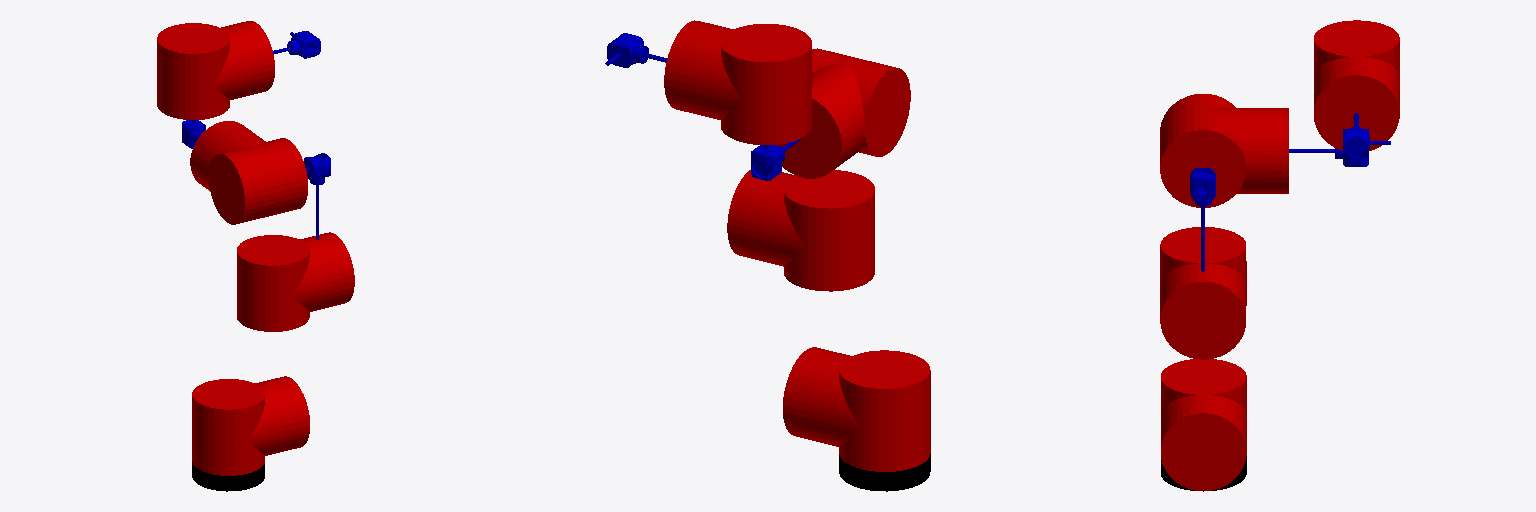
robot.urdf — node62:
<?xml version="1.0"?>
<robot  name="node62" >
 <material  name="blue" >
  <color  rgba="0 0 0.8 1.0" />
 </material>
 <material  name="red" >
  <color  rgba="0.8 0 0 1.0" />
 </material>
 <material  name="black" >
  <color  rgba="0.0 0.0 0.0 1.0" />
 </material>
 <link  name="root_mod" >
  <visual >
   <origin  rpy="0 0 0"  xyz="0 0 0" />
   <material  name="black" />
   <geometry >
    <cylinder  length="0.02"  radius="0.05" />
   </geometry>
  </visual>
 </link>
 <link  name="jointMod_1" >
  <visual >
   <origin  rpy="1.5707963267948963 0.0 0.0"  xyz="0.0 7.771561172376096e-19 0.0035" />
   <material  name="red" />
   <geometry >
    <mesh  filename="./meshes/j_module.obj"  scale="0.001 0.001 0.001" />
   </geometry>
  </visual>
 </link>
 <joint  type="revolute"  name="joint_1_revolute" >
  <parent  link="root_mod" />
  <child  link="jointMod_1" />
  <origin  rpy="0 0 0"  xyz="0.0 0.0 0.01" />
  <axis  xyz="0.0 0.0 1.0" />
 </joint>
 <transmission  name="act_joint_1_revolute" >
  <type  xmltext="SimpleTransmission" >
   SimpleTransmission
  </type>
  <actuator  name="act_joint_1_revolute" >
   <mechanicalreduction  xmltext="1" >
    1
   </mechanicalreduction>
  </actuator>
  <joint  name="joint_1_revolute" />
 </transmission>
 <link  name="linkMod_2" >
  <visual >
   <origin  rpy="1.5707963240855651 -1.2497703982816688e-08 -3.141592641092089"  xyz="0.03999999999999998 4.999081662324221e-10 -4.999081648780052e-10" />
   <material  name="blue" />
   <geometry >
    <mesh  filename="./meshes/l2_module.obj"  scale="0.001 0.001 0.001" />
   </geometry>
  </visual>
 </link>
 <joint  type="revolute"  name="joint_2_revolute" >
  <parent  link="jointMod_1" />
  <child  link="linkMod_2" />
  <origin  rpy="0 0 0"  xyz="0.03 -0.0002999999999999882 0.053000000000000005" />
  <axis  xyz="1.0 0.0 0.0" />
 </joint>
 <transmission  name="act_joint_2_revolute" >
  <type  xmltext="SimpleTransmission" >
   SimpleTransmission
  </type>
  <actuator  name="act_joint_2_revolute" >
   <mechanicalreduction  xmltext="1" >
    1
   </mechanicalreduction>
  </actuator>
  <joint  name="joint_2_revolute" />
 </transmission>
 <link  name="jointMod_3" >
  <visual >
   <origin  rpy="1.5707963267948963 0.0 0.0"  xyz="0.0 7.771561172376096e-19 0.0035" />
   <material  name="red" />
   <geometry >
    <mesh  filename="./meshes/j_module.obj"  scale="0.001 0.001 0.001" />
   </geometry>
  </visual>
 </link>
 <joint  type="fixed"  name="joint_3_fixed" >
  <parent  link="linkMod_2" />
  <child  link="jointMod_3" />
  <origin  rpy="0 0 0"  xyz="0.0400000018496602 9.892714319227296e-11 0.14799999950009177" />
  <axis  xyz="0.0 -0.0 1.0" />
 </joint>
 <link  name="linkMod_4" >
  <visual >
   <origin  rpy="1.5707963240855651 -1.2497703982816688e-08 -3.141592641092089"  xyz="0.03999999999999998 4.999081662324221e-10 -4.999081648780052e-10" />
   <material  name="blue" />
   <geometry >
    <mesh  filename="./meshes/l1_module.obj"  scale="0.001 0.001 0.001" />
   </geometry>
  </visual>
 </link>
 <joint  type="revolute"  name="joint_4_revolute" >
  <parent  link="jointMod_3" />
  <child  link="linkMod_4" />
  <origin  rpy="0 0 0"  xyz="0.03 -0.0002999999999999882 0.053000000000000005" />
  <axis  xyz="1.0 0.0 0.0" />
 </joint>
 <transmission  name="act_joint_4_revolute" >
  <type  xmltext="SimpleTransmission" >
   SimpleTransmission
  </type>
  <actuator  name="act_joint_4_revolute" >
   <mechanicalreduction  xmltext="1" >
    1
   </mechanicalreduction>
  </actuator>
  <joint  name="joint_4_revolute" />
 </transmission>
 <link  name="jointMod_5" >
  <visual >
   <origin  rpy="0.0 0.0 1.5707963267948963"  xyz="-0.0035 7.771561172376096e-19 0.0" />
   <material  name="red" />
   <geometry >
    <mesh  filename="./meshes/j_module.obj"  scale="0.001 0.001 0.001" />
   </geometry>
  </visual>
 </link>
 <joint  type="fixed"  name="joint_5_fixed" >
  <parent  link="linkMod_4" />
  <child  link="jointMod_5" />
  <origin  rpy="0 0 0"  xyz="1.9996326608429094e-09 -4.3349299788124236e-10 0.15999999999999995" />
  <axis  xyz="-1.0 -0.0 0.0" />
 </joint>
 <link  name="linkMod_6" >
  <visual >
   <origin  rpy="-3.141592641092089 -1.5707963009853283 0.0"  xyz="-1.8496602150599611e-09 0.14799999999999994 1.84966021004862e-09" />
   <material  name="blue" />
   <geometry >
    <mesh  filename="./meshes/l3_module.obj"  scale="0.001 0.001 0.001" />
   </geometry>
  </visual>
 </link>
 <joint  type="revolute"  name="joint_6_revolute" >
  <parent  link="jointMod_5" />
  <child  link="linkMod_6" />
  <origin  rpy="0 0 0"  xyz="-0.053 0.03000000000000001 0.0003" />
  <axis  xyz="0.0 1.0 0.0" />
 </joint>
 <transmission  name="act_joint_6_revolute" >
  <type  xmltext="SimpleTransmission" >
   SimpleTransmission
  </type>
  <actuator  name="act_joint_6_revolute" >
   <mechanicalreduction  xmltext="1" >
    1
   </mechanicalreduction>
  </actuator>
  <joint  name="joint_6_revolute" />
 </transmission>
 <link  name="jointMod_7" >
  <visual >
   <origin  rpy="1.5707963267948963 0.0 0.0"  xyz="0.0 7.771561172376096e-19 0.0035" />
   <material  name="red" />
   <geometry >
    <mesh  filename="./meshes/j_module.obj"  scale="0.001 0.001 0.001" />
   </geometry>
  </visual>
 </link>
 <joint  type="fixed"  name="joint_7_fixed" >
  <parent  link="linkMod_6" />
  <child  link="jointMod_7" />
  <origin  rpy="0 0 0"  xyz="-1.958033437884919e-09 0.14799999950009177 0.0400000018496602" />
  <axis  xyz="-0.0 -0.0 1.0" />
 </joint>
 <link  name="linkMod_8" >
  <visual >
   <origin  rpy="0.0 0.0 1.5707963267948963"  xyz="0.148 -3.286260152890463e-17 0.0" />
   <material  name="blue" />
   <geometry >
    <mesh  filename="./meshes/l3_module.obj"  scale="0.001 0.001 0.001" />
   </geometry>
  </visual>
 </link>
 <joint  type="revolute"  name="joint_8_revolute" >
  <parent  link="jointMod_7" />
  <child  link="linkMod_8" />
  <origin  rpy="0 0 0"  xyz="0.03 -0.0002999999999999882 0.053000000000000005" />
  <axis  xyz="1.0 0.0 0.0" />
 </joint>
 <transmission  name="act_joint_8_revolute" >
  <type  xmltext="SimpleTransmission" >
   SimpleTransmission
  </type>
  <actuator  name="act_joint_8_revolute" >
   <mechanicalreduction  xmltext="1" >
    1
   </mechanicalreduction>
  </actuator>
  <joint  name="joint_8_revolute" />
 </transmission>
 <link  name="eef" />
 <joint  type="fixed"  name="eef_joint" >
  <parent  link="linkMod_8" />
  <child  link="eef" />
  <origin  rpy="0 0 0"  xyz="0.148 0.039999999999999966 0.0" />
  <axis  xyz="0.0 1.0 0.0" />
 </joint>
</robot>

--- Facts derived from the render (not from the file) ---
Views: 3 orthographic renders of the robot side by side, from view 1: azimuth 30°, elevation 25°; view 2: azimuth 150°, elevation 25°; view 3: azimuth 270°, elevation 25°.
Model node62 with 10 links and 9 joints (5 revolute, 4 fixed), rooted at root_mod, posed every joint at zero.
Visible links, largest first — view 1: jointMod_1, jointMod_7, jointMod_3, jointMod_5, root_mod, linkMod_4, linkMod_8; view 2: jointMod_1, jointMod_7, jointMod_3, jointMod_5, root_mod, linkMod_8, linkMod_6; view 3: jointMod_5, jointMod_1, jointMod_3, jointMod_7, linkMod_4, linkMod_8.
Boxes of the visible links, x1,y1,x2,y2 form: jointMod_1: (192,376,309,475); jointMod_7: (157,21,274,119); jointMod_3: (237,232,354,331); jointMod_5: (190,121,307,224); root_mod: (192,462,264,491); linkMod_4: (304,153,330,239); linkMod_8: (273,31,320,58); jointMod_1: (783,347,930,471); jointMod_7: (664,20,811,144); jointMod_3: (727,170,874,291); jointMod_5: (777,48,910,178); root_mod: (839,454,930,491); linkMod_8: (605,33,666,67); linkMod_6: (751,137,803,180); jointMod_5: (1160,94,1288,207); jointMod_1: (1161,359,1246,490); jointMod_3: (1160,227,1246,359); jointMod_7: (1314,20,1399,150); linkMod_4: (1190,168,1215,271); linkMod_8: (1343,113,1390,156).
Bounding box of the posed robot: 0.2893 × 0.2778 × 0.5778 m (x, y, z).
Meshes: 4 distinct files referenced, 7 mesh visuals loaded (3 OBJ); not drawn: 1 (reference not matched to a file when rendering).